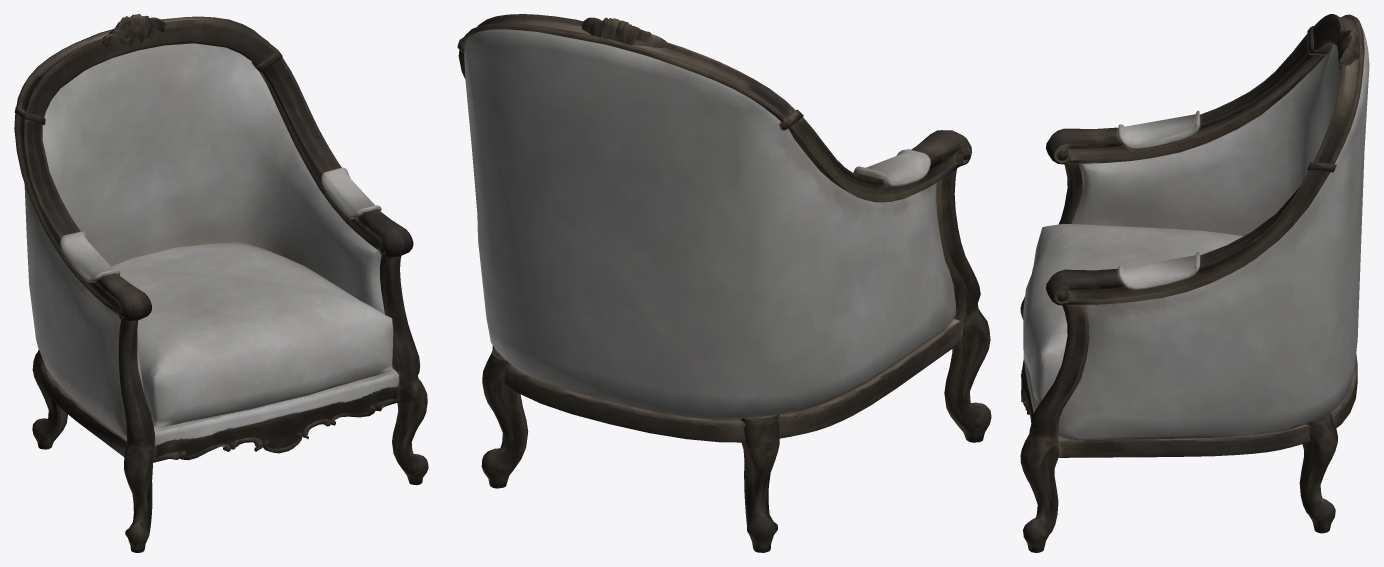
Rendered from armchair.glb.
The picture shows the model from 3 angles, left to right: view 1: azimuth 30°, elevation 25°; view 2: azimuth 150°, elevation 25°; view 3: azimuth 270°, elevation 25°; orthographic projection. The views are drawn at different scales.
Parts seen in each view (by area): view 1: ArmChair_01; view 2: ArmChair_01; view 3: ArmChair_01.
Boxes of the visible parts, x1,y1,x2,y2 form: ArmChair_01: (14, 14, 428, 552); ArmChair_01: (457, 14, 991, 552); ArmChair_01: (1020, 14, 1369, 552).
Bounding box in the file's own units: 0.8485 × 1.07 × 0.7658.
1 material, 1 textured.
